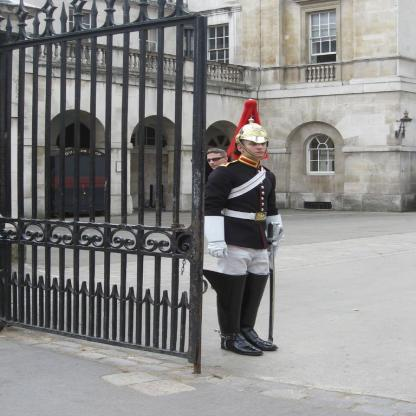Helmet: (229, 99, 270, 162)
